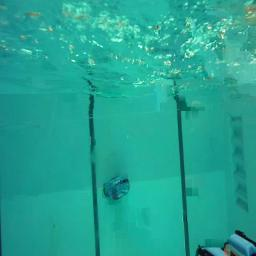Full: (195, 230, 255, 256)
Side: (103, 174, 130, 200)
